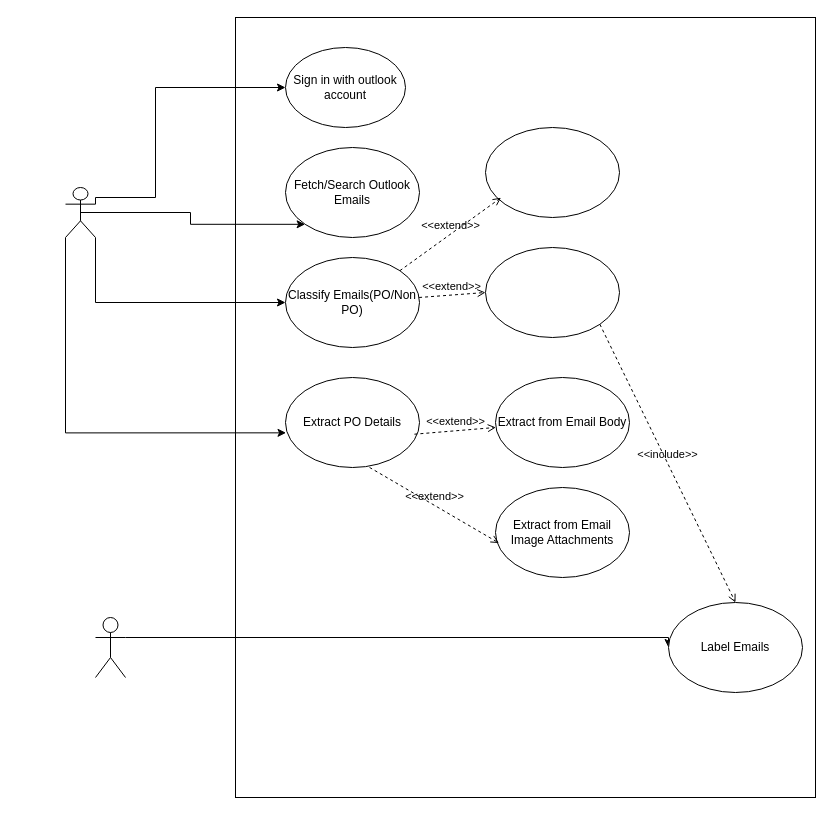
This 833x815 diagram has some shape labels left out. Each missing label, with the centre of its shape:
Bert Trained Model: (x=552, y=292)
Data Labeler: (x=110, y=647)
PO DATA EXTRACTOR: (x=80, y=212)
Rule Based Logic: (x=552, y=172)
